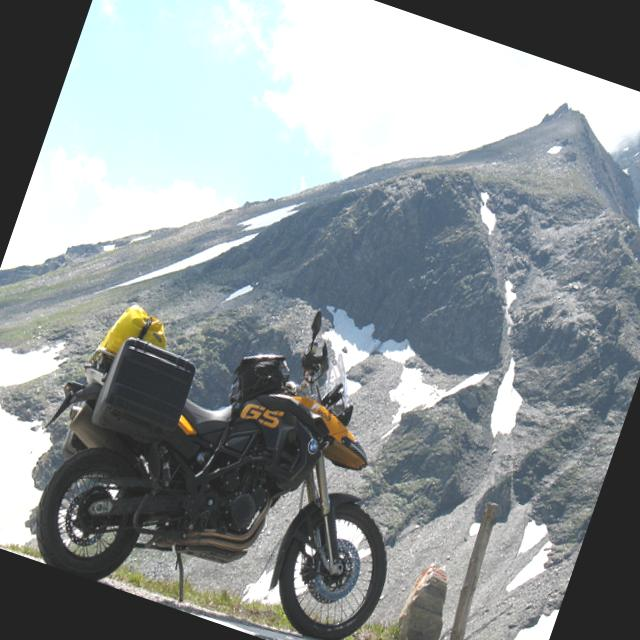Vehicle: (0, 228, 463, 640)
